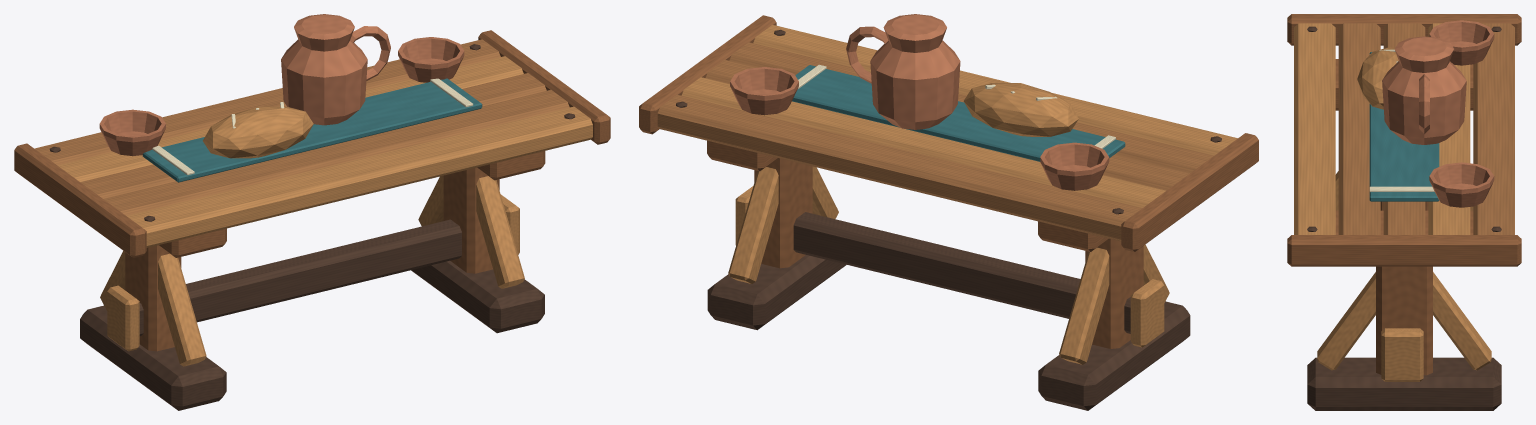
Rendered from table_tavern_feast.glb.
3 renders of one model, left to right at view 1: azimuth 30°, elevation 25°; view 2: azimuth 150°, elevation 25°; view 3: azimuth 270°, elevation 25°, orthographic. The views are drawn at different scales.
Visible parts, largest first — view 1: table_tavern_feast; view 2: table_tavern_feast; view 3: table_tavern_feast.
Boxes of the visible parts, <box> form: table_tavern_feast: <box>14,14,610,410</box>; table_tavern_feast: <box>639,14,1258,410</box>; table_tavern_feast: <box>1287,14,1521,410</box>.
Bounding box in the file's own units: 2.17 × 1.28 × 0.94.
1 material, 1 textured.
